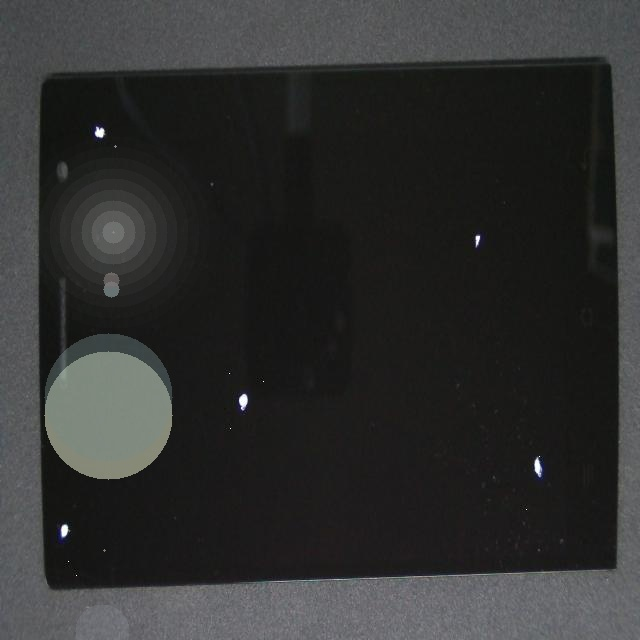stain: (233, 216, 640, 640), (219, 92, 640, 382), (77, 215, 355, 640), (38, 220, 86, 640), (34, 44, 135, 221)
